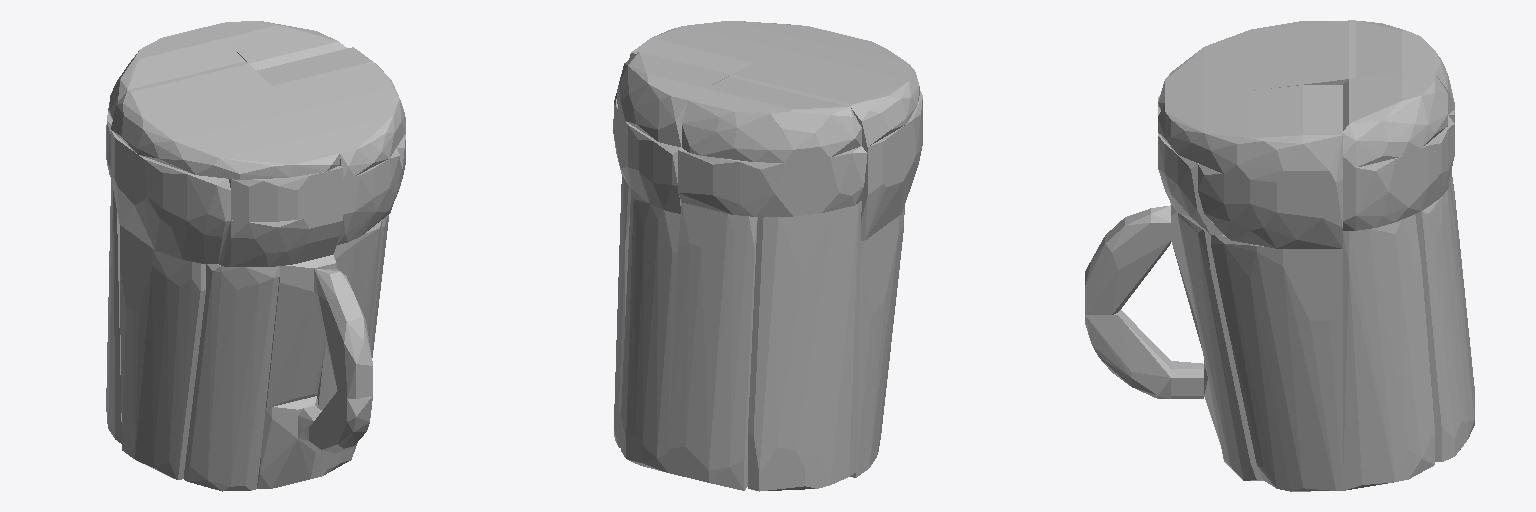
--- What the picture shows (computed from the rendered views, not written in the file) ---
The picture shows the robot from 3 angles, left to right: view 1: azimuth 30°, elevation 25°; view 2: azimuth 150°, elevation 25°; view 3: azimuth 270°, elevation 25°; orthographic projection.
Robot: root — 24 links, 23 joints (23 fixed); root link link_59c2a9f6e97ebde9266e6525b6754758_convex_piece_0; default pose: all joints at 0.
Visible links, largest first — view 1: link_59c2a9f6e97ebde9266e6525b6754758_convex_piece_0, link_59c2a9f6e97ebde9266e6525b6754758_convex_piece_12, link_59c2a9f6e97ebde9266e6525b6754758_convex_piece_13, link_59c2a9f6e97ebde9266e6525b6754758_convex_piece_7, link_59c2a9f6e97ebde9266e6525b6754758_convex_piece_14, link_59c2a9f6e97ebde9266e6525b6754758_convex_piece_19, link_59c2a9f6e97ebde9266e6525b6754758_convex_piece_20, link_59c2a9f6e97ebde9266e6525b6754758_convex_piece_18, link_59c2a9f6e97ebde9266e6525b6754758_convex_piece_21, link_59c2a9f6e97ebde9266e6525b6754758_convex_piece_4, link_59c2a9f6e97ebde9266e6525b6754758_convex_piece_5, link_59c2a9f6e97ebde9266e6525b6754758_convex_piece_11 (+6 smaller); view 2: link_59c2a9f6e97ebde9266e6525b6754758_convex_piece_1, link_59c2a9f6e97ebde9266e6525b6754758_convex_piece_2, link_59c2a9f6e97ebde9266e6525b6754758_convex_piece_8, link_59c2a9f6e97ebde9266e6525b6754758_convex_piece_4, link_59c2a9f6e97ebde9266e6525b6754758_convex_piece_0, link_59c2a9f6e97ebde9266e6525b6754758_convex_piece_3, link_59c2a9f6e97ebde9266e6525b6754758_convex_piece_12, link_59c2a9f6e97ebde9266e6525b6754758_convex_piece_11, link_59c2a9f6e97ebde9266e6525b6754758_convex_piece_7, link_59c2a9f6e97ebde9266e6525b6754758_convex_piece_14, link_59c2a9f6e97ebde9266e6525b6754758_convex_piece_10, link_59c2a9f6e97ebde9266e6525b6754758_convex_piece_9; view 3: link_59c2a9f6e97ebde9266e6525b6754758_convex_piece_6, link_59c2a9f6e97ebde9266e6525b6754758_convex_piece_9, link_59c2a9f6e97ebde9266e6525b6754758_convex_piece_7, link_59c2a9f6e97ebde9266e6525b6754758_convex_piece_0, link_59c2a9f6e97ebde9266e6525b6754758_convex_piece_8, link_59c2a9f6e97ebde9266e6525b6754758_convex_piece_16, link_59c2a9f6e97ebde9266e6525b6754758_convex_piece_11, link_59c2a9f6e97ebde9266e6525b6754758_convex_piece_5, link_59c2a9f6e97ebde9266e6525b6754758_convex_piece_10, link_59c2a9f6e97ebde9266e6525b6754758_convex_piece_18, link_59c2a9f6e97ebde9266e6525b6754758_convex_piece_17, link_59c2a9f6e97ebde9266e6525b6754758_convex_piece_4 (+4 smaller).
Link boxes in pixels (x1,y1,x2,y2): link_59c2a9f6e97ebde9266e6525b6754758_convex_piece_0: (111,61,339,179); link_59c2a9f6e97ebde9266e6525b6754758_convex_piece_12: (120,225,205,479); link_59c2a9f6e97ebde9266e6525b6754758_convex_piece_13: (184,264,279,491); link_59c2a9f6e97ebde9266e6525b6754758_convex_piece_7: (257,47,405,178); link_59c2a9f6e97ebde9266e6525b6754758_convex_piece_14: (111,130,230,263); link_59c2a9f6e97ebde9266e6525b6754758_convex_piece_19: (266,255,336,407); link_59c2a9f6e97ebde9266e6525b6754758_convex_piece_20: (218,209,342,266); link_59c2a9f6e97ebde9266e6525b6754758_convex_piece_18: (314,269,372,398); link_59c2a9f6e97ebde9266e6525b6754758_convex_piece_21: (229,166,342,221); link_59c2a9f6e97ebde9266e6525b6754758_convex_piece_4: (108,27,244,119); link_59c2a9f6e97ebde9266e6525b6754758_convex_piece_5: (311,220,381,478); link_59c2a9f6e97ebde9266e6525b6754758_convex_piece_11: (208,21,346,70); link_59c2a9f6e97ebde9266e6525b6754758_convex_piece_1: (748,201,861,491); link_59c2a9f6e97ebde9266e6525b6754758_convex_piece_2: (668,203,757,490); link_59c2a9f6e97ebde9266e6525b6754758_convex_piece_8: (621,189,680,472); link_59c2a9f6e97ebde9266e6525b6754758_convex_piece_4: (682,77,861,162); link_59c2a9f6e97ebde9266e6525b6754758_convex_piece_0: (729,30,919,146); link_59c2a9f6e97ebde9266e6525b6754758_convex_piece_3: (678,146,867,216); link_59c2a9f6e97ebde9266e6525b6754758_convex_piece_12: (850,206,904,477); link_59c2a9f6e97ebde9266e6525b6754758_convex_piece_11: (617,52,730,147); link_59c2a9f6e97ebde9266e6525b6754758_convex_piece_7: (629,21,824,74); link_59c2a9f6e97ebde9266e6525b6754758_convex_piece_14: (861,91,922,240); link_59c2a9f6e97ebde9266e6525b6754758_convex_piece_10: (613,93,681,213); link_59c2a9f6e97ebde9266e6525b6754758_convex_piece_9: (614,175,630,447); link_59c2a9f6e97ebde9266e6525b6754758_convex_piece_6: (1211,235,1342,491); link_59c2a9f6e97ebde9266e6525b6754758_convex_piece_9: (1343,214,1434,490); link_59c2a9f6e97ebde9266e6525b6754758_convex_piece_7: (1158,85,1342,182); link_59c2a9f6e97ebde9266e6525b6754758_convex_piece_0: (1158,20,1355,109); link_59c2a9f6e97ebde9266e6525b6754758_convex_piece_8: (1416,188,1474,461); link_59c2a9f6e97ebde9266e6525b6754758_convex_piece_16: (1198,163,1342,248); link_59c2a9f6e97ebde9266e6525b6754758_convex_piece_11: (1343,73,1447,167); link_59c2a9f6e97ebde9266e6525b6754758_convex_piece_5: (1178,213,1263,480); link_59c2a9f6e97ebde9266e6525b6754758_convex_piece_10: (1343,115,1454,230); link_59c2a9f6e97ebde9266e6525b6754758_convex_piece_18: (1085,205,1170,314); link_59c2a9f6e97ebde9266e6525b6754758_convex_piece_17: (1085,310,1170,398); link_59c2a9f6e97ebde9266e6525b6754758_convex_piece_4: (1356,21,1454,114).
Size in the robot's own frame: 0.0349 by 0.0458 by 0.0497 metres.
24 mesh visuals loaded from 24 distinct referenced files (24 OBJ).

robot.urdf — root:
<robot name="root">
  <link name="link_59c2a9f6e97ebde9266e6525b6754758_convex_piece_0">
    <inertial>
      <origin rpy="0 0 0" xyz="0 0 0"/>
      <mass value="3.76E-07"/>
      <inertia ixx="1.49E-10" ixy="-2.13E-12" ixz="-5.71E-11" iyy="1.69E-10" iyz="-1.09E-11" izz="3.81E-11"/>
    </inertial>
    <visual>
      <origin rpy="0 0 0" xyz="0 0 0"/>
      <geometry>
        <mesh filename="59c2a9f6e97ebde9266e6525b6754758_convex_piece_0.obj" scale="1.0000E+00"/>
      </geometry>
      <material name="">
        <color rgba="7.50E-01 7.50E-01 7.50E-01 1"/>
      </material>
    </visual>
    <collision>
      <origin rpy="0 0 0" xyz="0 0 0"/>
      <geometry>
        <mesh filename="59c2a9f6e97ebde9266e6525b6754758_convex_piece_0.obj" scale="1.0000E+00"/>
      </geometry>
    </collision>
  </link>
  <link name="link_59c2a9f6e97ebde9266e6525b6754758_convex_piece_1">
    <inertial>
      <origin rpy="0 0 0" xyz="0 0 0"/>
      <mass value="4.27E-07"/>
      <inertia ixx="1.05E-10" ixy="-6.75E-11" ixz="2.67E-11" iyy="7.72E-11" iyz="-4.76E-11" izz="1.43E-10"/>
    </inertial>
    <visual>
      <origin rpy="0 0 0" xyz="0 0 0"/>
      <geometry>
        <mesh filename="59c2a9f6e97ebde9266e6525b6754758_convex_piece_1.obj" scale="1.0000E+00"/>
      </geometry>
      <material name="">
        <color rgba="7.50E-01 7.50E-01 7.50E-01 1"/>
      </material>
    </visual>
    <collision>
      <origin rpy="0 0 0" xyz="0 0 0"/>
      <geometry>
        <mesh filename="59c2a9f6e97ebde9266e6525b6754758_convex_piece_1.obj" scale="1.0000E+00"/>
      </geometry>
    </collision>
  </link>
  <joint name="link_59c2a9f6e97ebde9266e6525b6754758_convex_piece_1_joint" type="fixed">
    <origin rpy="0 0 0" xyz="0 0 0"/>
    <parent link="link_59c2a9f6e97ebde9266e6525b6754758_convex_piece_0"/>
    <child link="link_59c2a9f6e97ebde9266e6525b6754758_convex_piece_1"/>
  </joint>
  <link name="link_59c2a9f6e97ebde9266e6525b6754758_convex_piece_2">
    <inertial>
      <origin rpy="0 0 0" xyz="0 0 0"/>
      <mass value="3.02E-07"/>
      <inertia ixx="1.26E-10" ixy="-1.68E-11" ixz="4.21E-12" iyy="1.41E-11" iyz="-3.97E-11" izz="1.21E-10"/>
    </inertial>
    <visual>
      <origin rpy="0 0 0" xyz="0 0 0"/>
      <geometry>
        <mesh filename="59c2a9f6e97ebde9266e6525b6754758_convex_piece_2.obj" scale="1.0000E+00"/>
      </geometry>
      <material name="">
        <color rgba="7.50E-01 7.50E-01 7.50E-01 1"/>
      </material>
    </visual>
    <collision>
      <origin rpy="0 0 0" xyz="0 0 0"/>
      <geometry>
        <mesh filename="59c2a9f6e97ebde9266e6525b6754758_convex_piece_2.obj" scale="1.0000E+00"/>
      </geometry>
    </collision>
  </link>
  <joint name="link_59c2a9f6e97ebde9266e6525b6754758_convex_piece_2_joint" type="fixed">
    <origin rpy="0 0 0" xyz="0 0 0"/>
    <parent link="link_59c2a9f6e97ebde9266e6525b6754758_convex_piece_1"/>
    <child link="link_59c2a9f6e97ebde9266e6525b6754758_convex_piece_2"/>
  </joint>
  <link name="link_59c2a9f6e97ebde9266e6525b6754758_convex_piece_3">
    <inertial>
      <origin rpy="0 0 0" xyz="0 0 0"/>
      <mass value="2.36E-07"/>
      <inertia ixx="9.69E-11" ixy="-2.34E-11" ixz="-2.75E-11" iyy="6.05E-11" iyz="5.07E-11" izz="7.15E-11"/>
    </inertial>
    <visual>
      <origin rpy="0 0 0" xyz="0 0 0"/>
      <geometry>
        <mesh filename="59c2a9f6e97ebde9266e6525b6754758_convex_piece_3.obj" scale="1.0000E+00"/>
      </geometry>
      <material name="">
        <color rgba="7.50E-01 7.50E-01 7.50E-01 1"/>
      </material>
    </visual>
    <collision>
      <origin rpy="0 0 0" xyz="0 0 0"/>
      <geometry>
        <mesh filename="59c2a9f6e97ebde9266e6525b6754758_convex_piece_3.obj" scale="1.0000E+00"/>
      </geometry>
    </collision>
  </link>
  <joint name="link_59c2a9f6e97ebde9266e6525b6754758_convex_piece_3_joint" type="fixed">
    <origin rpy="0 0 0" xyz="0 0 0"/>
    <parent link="link_59c2a9f6e97ebde9266e6525b6754758_convex_piece_2"/>
    <child link="link_59c2a9f6e97ebde9266e6525b6754758_convex_piece_3"/>
  </joint>
  <link name="link_59c2a9f6e97ebde9266e6525b6754758_convex_piece_4">
    <inertial>
      <origin rpy="0 0 0" xyz="0 0 0"/>
      <mass value="2.33E-07"/>
      <inertia ixx="1.39E-10" ixy="-1.66E-11" ixz="-2.77E-11" iyy="1.06E-10" iyz="6.45E-11" izz="5.64E-11"/>
    </inertial>
    <visual>
      <origin rpy="0 0 0" xyz="0 0 0"/>
      <geometry>
        <mesh filename="59c2a9f6e97ebde9266e6525b6754758_convex_piece_4.obj" scale="1.0000E+00"/>
      </geometry>
      <material name="">
        <color rgba="7.50E-01 7.50E-01 7.50E-01 1"/>
      </material>
    </visual>
    <collision>
      <origin rpy="0 0 0" xyz="0 0 0"/>
      <geometry>
        <mesh filename="59c2a9f6e97ebde9266e6525b6754758_convex_piece_4.obj" scale="1.0000E+00"/>
      </geometry>
    </collision>
  </link>
  <joint name="link_59c2a9f6e97ebde9266e6525b6754758_convex_piece_4_joint" type="fixed">
    <origin rpy="0 0 0" xyz="0 0 0"/>
    <parent link="link_59c2a9f6e97ebde9266e6525b6754758_convex_piece_3"/>
    <child link="link_59c2a9f6e97ebde9266e6525b6754758_convex_piece_4"/>
  </joint>
  <link name="link_59c2a9f6e97ebde9266e6525b6754758_convex_piece_5">
    <inertial>
      <origin rpy="0 0 0" xyz="0 0 0"/>
      <mass value="3.38E-07"/>
      <inertia ixx="3.64E-11" ixy="-1.32E-11" ixz="-1.75E-11" iyy="4.02E-11" iyz="2.38E-12" izz="2.83E-11"/>
    </inertial>
    <visual>
      <origin rpy="0 0 0" xyz="0 0 0"/>
      <geometry>
        <mesh filename="59c2a9f6e97ebde9266e6525b6754758_convex_piece_5.obj" scale="1.0000E+00"/>
      </geometry>
      <material name="">
        <color rgba="7.50E-01 7.50E-01 7.50E-01 1"/>
      </material>
    </visual>
    <collision>
      <origin rpy="0 0 0" xyz="0 0 0"/>
      <geometry>
        <mesh filename="59c2a9f6e97ebde9266e6525b6754758_convex_piece_5.obj" scale="1.0000E+00"/>
      </geometry>
    </collision>
  </link>
  <joint name="link_59c2a9f6e97ebde9266e6525b6754758_convex_piece_5_joint" type="fixed">
    <origin rpy="0 0 0" xyz="0 0 0"/>
    <parent link="link_59c2a9f6e97ebde9266e6525b6754758_convex_piece_4"/>
    <child link="link_59c2a9f6e97ebde9266e6525b6754758_convex_piece_5"/>
  </joint>
  <link name="link_59c2a9f6e97ebde9266e6525b6754758_convex_piece_6">
    <inertial>
      <origin rpy="0 0 0" xyz="0 0 0"/>
      <mass value="3.88E-07"/>
      <inertia ixx="1.38E-11" ixy="6.46E-12" ixz="-2.85E-11" iyy="8.12E-11" iyz="-1.66E-11" izz="6.94E-11"/>
    </inertial>
    <visual>
      <origin rpy="0 0 0" xyz="0 0 0"/>
      <geometry>
        <mesh filename="59c2a9f6e97ebde9266e6525b6754758_convex_piece_6.obj" scale="1.0000E+00"/>
      </geometry>
      <material name="">
        <color rgba="7.50E-01 7.50E-01 7.50E-01 1"/>
      </material>
    </visual>
    <collision>
      <origin rpy="0 0 0" xyz="0 0 0"/>
      <geometry>
        <mesh filename="59c2a9f6e97ebde9266e6525b6754758_convex_piece_6.obj" scale="1.0000E+00"/>
      </geometry>
    </collision>
  </link>
  <joint name="link_59c2a9f6e97ebde9266e6525b6754758_convex_piece_6_joint" type="fixed">
    <origin rpy="0 0 0" xyz="0 0 0"/>
    <parent link="link_59c2a9f6e97ebde9266e6525b6754758_convex_piece_5"/>
    <child link="link_59c2a9f6e97ebde9266e6525b6754758_convex_piece_6"/>
  </joint>
  <link name="link_59c2a9f6e97ebde9266e6525b6754758_convex_piece_7">
    <inertial>
      <origin rpy="0 0 0" xyz="0 0 0"/>
      <mass value="3.69E-07"/>
      <inertia ixx="1.32E-10" ixy="-2.65E-12" ixz="6.94E-11" iyy="1.62E-10" iyz="-2.15E-11" izz="4.58E-11"/>
    </inertial>
    <visual>
      <origin rpy="0 0 0" xyz="0 0 0"/>
      <geometry>
        <mesh filename="59c2a9f6e97ebde9266e6525b6754758_convex_piece_7.obj" scale="1.0000E+00"/>
      </geometry>
      <material name="">
        <color rgba="7.50E-01 7.50E-01 7.50E-01 1"/>
      </material>
    </visual>
    <collision>
      <origin rpy="0 0 0" xyz="0 0 0"/>
      <geometry>
        <mesh filename="59c2a9f6e97ebde9266e6525b6754758_convex_piece_7.obj" scale="1.0000E+00"/>
      </geometry>
    </collision>
  </link>
  <joint name="link_59c2a9f6e97ebde9266e6525b6754758_convex_piece_7_joint" type="fixed">
    <origin rpy="0 0 0" xyz="0 0 0"/>
    <parent link="link_59c2a9f6e97ebde9266e6525b6754758_convex_piece_6"/>
    <child link="link_59c2a9f6e97ebde9266e6525b6754758_convex_piece_7"/>
  </joint>
  <link name="link_59c2a9f6e97ebde9266e6525b6754758_convex_piece_8">
    <inertial>
      <origin rpy="0 0 0" xyz="0 0 0"/>
      <mass value="3.10E-07"/>
      <inertia ixx="1.16E-10" ixy="3.66E-11" ixz="-1.16E-11" iyy="2.57E-11" iyz="-4.42E-11" izz="1.20E-10"/>
    </inertial>
    <visual>
      <origin rpy="0 0 0" xyz="0 0 0"/>
      <geometry>
        <mesh filename="59c2a9f6e97ebde9266e6525b6754758_convex_piece_8.obj" scale="1.0000E+00"/>
      </geometry>
      <material name="">
        <color rgba="7.50E-01 7.50E-01 7.50E-01 1"/>
      </material>
    </visual>
    <collision>
      <origin rpy="0 0 0" xyz="0 0 0"/>
      <geometry>
        <mesh filename="59c2a9f6e97ebde9266e6525b6754758_convex_piece_8.obj" scale="1.0000E+00"/>
      </geometry>
    </collision>
  </link>
  <joint name="link_59c2a9f6e97ebde9266e6525b6754758_convex_piece_8_joint" type="fixed">
    <origin rpy="0 0 0" xyz="0 0 0"/>
    <parent link="link_59c2a9f6e97ebde9266e6525b6754758_convex_piece_7"/>
    <child link="link_59c2a9f6e97ebde9266e6525b6754758_convex_piece_8"/>
  </joint>
  <link name="link_59c2a9f6e97ebde9266e6525b6754758_convex_piece_9">
    <inertial>
      <origin rpy="0 0 0" xyz="0 0 0"/>
      <mass value="2.86E-07"/>
      <inertia ixx="5.58E-11" ixy="4.44E-11" ixz="-2.38E-11" iyy="6.36E-11" iyz="-3.16E-11" izz="8.99E-11"/>
    </inertial>
    <visual>
      <origin rpy="0 0 0" xyz="0 0 0"/>
      <geometry>
        <mesh filename="59c2a9f6e97ebde9266e6525b6754758_convex_piece_9.obj" scale="1.0000E+00"/>
      </geometry>
      <material name="">
        <color rgba="7.50E-01 7.50E-01 7.50E-01 1"/>
      </material>
    </visual>
    <collision>
      <origin rpy="0 0 0" xyz="0 0 0"/>
      <geometry>
        <mesh filename="59c2a9f6e97ebde9266e6525b6754758_convex_piece_9.obj" scale="1.0000E+00"/>
      </geometry>
    </collision>
  </link>
  <joint name="link_59c2a9f6e97ebde9266e6525b6754758_convex_piece_9_joint" type="fixed">
    <origin rpy="0 0 0" xyz="0 0 0"/>
    <parent link="link_59c2a9f6e97ebde9266e6525b6754758_convex_piece_8"/>
    <child link="link_59c2a9f6e97ebde9266e6525b6754758_convex_piece_9"/>
  </joint>
  <link name="link_59c2a9f6e97ebde9266e6525b6754758_convex_piece_10">
    <inertial>
      <origin rpy="0 0 0" xyz="0 0 0"/>
      <mass value="2.40E-07"/>
      <inertia ixx="8.58E-11" ixy="2.95E-11" ixz="3.51E-11" iyy="6.39E-11" iyz="4.45E-11" izz="7.22E-11"/>
    </inertial>
    <visual>
      <origin rpy="0 0 0" xyz="0 0 0"/>
      <geometry>
        <mesh filename="59c2a9f6e97ebde9266e6525b6754758_convex_piece_10.obj" scale="1.0000E+00"/>
      </geometry>
      <material name="">
        <color rgba="7.50E-01 7.50E-01 7.50E-01 1"/>
      </material>
    </visual>
    <collision>
      <origin rpy="0 0 0" xyz="0 0 0"/>
      <geometry>
        <mesh filename="59c2a9f6e97ebde9266e6525b6754758_convex_piece_10.obj" scale="1.0000E+00"/>
      </geometry>
    </collision>
  </link>
  <joint name="link_59c2a9f6e97ebde9266e6525b6754758_convex_piece_10_joint" type="fixed">
    <origin rpy="0 0 0" xyz="0 0 0"/>
    <parent link="link_59c2a9f6e97ebde9266e6525b6754758_convex_piece_9"/>
    <child link="link_59c2a9f6e97ebde9266e6525b6754758_convex_piece_10"/>
  </joint>
  <link name="link_59c2a9f6e97ebde9266e6525b6754758_convex_piece_11">
    <inertial>
      <origin rpy="0 0 0" xyz="0 0 0"/>
      <mass value="1.95E-07"/>
      <inertia ixx="1.10E-10" ixy="1.87E-11" ixz="3.35E-11" iyy="9.31E-11" iyz="4.89E-11" izz="4.65E-11"/>
    </inertial>
    <visual>
      <origin rpy="0 0 0" xyz="0 0 0"/>
      <geometry>
        <mesh filename="59c2a9f6e97ebde9266e6525b6754758_convex_piece_11.obj" scale="1.0000E+00"/>
      </geometry>
      <material name="">
        <color rgba="7.50E-01 7.50E-01 7.50E-01 1"/>
      </material>
    </visual>
    <collision>
      <origin rpy="0 0 0" xyz="0 0 0"/>
      <geometry>
        <mesh filename="59c2a9f6e97ebde9266e6525b6754758_convex_piece_11.obj" scale="1.0000E+00"/>
      </geometry>
    </collision>
  </link>
  <joint name="link_59c2a9f6e97ebde9266e6525b6754758_convex_piece_11_joint" type="fixed">
    <origin rpy="0 0 0" xyz="0 0 0"/>
    <parent link="link_59c2a9f6e97ebde9266e6525b6754758_convex_piece_10"/>
    <child link="link_59c2a9f6e97ebde9266e6525b6754758_convex_piece_11"/>
  </joint>
  <link name="link_59c2a9f6e97ebde9266e6525b6754758_convex_piece_12">
    <inertial>
      <origin rpy="0 0 0" xyz="0 0 0"/>
      <mass value="3.07E-07"/>
      <inertia ixx="1.34E-11" ixy="-1.28E-11" ixz="2.69E-11" iyy="6.95E-11" iyz="-1.67E-11" izz="6.19E-11"/>
    </inertial>
    <visual>
      <origin rpy="0 0 0" xyz="0 0 0"/>
      <geometry>
        <mesh filename="59c2a9f6e97ebde9266e6525b6754758_convex_piece_12.obj" scale="1.0000E+00"/>
      </geometry>
      <material name="">
        <color rgba="7.50E-01 7.50E-01 7.50E-01 1"/>
      </material>
    </visual>
    <collision>
      <origin rpy="0 0 0" xyz="0 0 0"/>
      <geometry>
        <mesh filename="59c2a9f6e97ebde9266e6525b6754758_convex_piece_12.obj" scale="1.0000E+00"/>
      </geometry>
    </collision>
  </link>
  <joint name="link_59c2a9f6e97ebde9266e6525b6754758_convex_piece_12_joint" type="fixed">
    <origin rpy="0 0 0" xyz="0 0 0"/>
    <parent link="link_59c2a9f6e97ebde9266e6525b6754758_convex_piece_11"/>
    <child link="link_59c2a9f6e97ebde9266e6525b6754758_convex_piece_12"/>
  </joint>
  <link name="link_59c2a9f6e97ebde9266e6525b6754758_convex_piece_13">
    <inertial>
      <origin rpy="0 0 0" xyz="0 0 0"/>
      <mass value="2.96E-07"/>
      <inertia ixx="2.88E-11" ixy="1.18E-11" ixz="2.30E-11" iyy="4.66E-11" iyz="-3.69E-14" izz="2.94E-11"/>
    </inertial>
    <visual>
      <origin rpy="0 0 0" xyz="0 0 0"/>
      <geometry>
        <mesh filename="59c2a9f6e97ebde9266e6525b6754758_convex_piece_13.obj" scale="1.0000E+00"/>
      </geometry>
      <material name="">
        <color rgba="7.50E-01 7.50E-01 7.50E-01 1"/>
      </material>
    </visual>
    <collision>
      <origin rpy="0 0 0" xyz="0 0 0"/>
      <geometry>
        <mesh filename="59c2a9f6e97ebde9266e6525b6754758_convex_piece_13.obj" scale="1.0000E+00"/>
      </geometry>
    </collision>
  </link>
  <joint name="link_59c2a9f6e97ebde9266e6525b6754758_convex_piece_13_joint" type="fixed">
    <origin rpy="0 0 0" xyz="0 0 0"/>
    <parent link="link_59c2a9f6e97ebde9266e6525b6754758_convex_piece_12"/>
    <child link="link_59c2a9f6e97ebde9266e6525b6754758_convex_piece_13"/>
  </joint>
  <link name="link_59c2a9f6e97ebde9266e6525b6754758_convex_piece_14">
    <inertial>
      <origin rpy="0 0 0" xyz="0 0 0"/>
      <mass value="3.24E-07"/>
      <inertia ixx="4.32E-11" ixy="-3.02E-12" ixz="-6.27E-11" iyy="1.04E-10" iyz="-7.47E-12" izz="6.88E-11"/>
    </inertial>
    <visual>
      <origin rpy="0 0 0" xyz="0 0 0"/>
      <geometry>
        <mesh filename="59c2a9f6e97ebde9266e6525b6754758_convex_piece_14.obj" scale="1.0000E+00"/>
      </geometry>
      <material name="">
        <color rgba="7.50E-01 7.50E-01 7.50E-01 1"/>
      </material>
    </visual>
    <collision>
      <origin rpy="0 0 0" xyz="0 0 0"/>
      <geometry>
        <mesh filename="59c2a9f6e97ebde9266e6525b6754758_convex_piece_14.obj" scale="1.0000E+00"/>
      </geometry>
    </collision>
  </link>
  <joint name="link_59c2a9f6e97ebde9266e6525b6754758_convex_piece_14_joint" type="fixed">
    <origin rpy="0 0 0" xyz="0 0 0"/>
    <parent link="link_59c2a9f6e97ebde9266e6525b6754758_convex_piece_13"/>
    <child link="link_59c2a9f6e97ebde9266e6525b6754758_convex_piece_14"/>
  </joint>
  <link name="link_59c2a9f6e97ebde9266e6525b6754758_convex_piece_15">
    <inertial>
      <origin rpy="0 0 0" xyz="0 0 0"/>
      <mass value="1.75E-07"/>
      <inertia ixx="3.41E-11" ixy="-1.14E-11" ixz="1.74E-11" iyy="3.00E-11" iyz="-2.76E-11" izz="2.57E-11"/>
    </inertial>
    <visual>
      <origin rpy="0 0 0" xyz="0 0 0"/>
      <geometry>
        <mesh filename="59c2a9f6e97ebde9266e6525b6754758_convex_piece_15.obj" scale="1.0000E+00"/>
      </geometry>
      <material name="">
        <color rgba="7.50E-01 7.50E-01 7.50E-01 1"/>
      </material>
    </visual>
    <collision>
      <origin rpy="0 0 0" xyz="0 0 0"/>
      <geometry>
        <mesh filename="59c2a9f6e97ebde9266e6525b6754758_convex_piece_15.obj" scale="1.0000E+00"/>
      </geometry>
    </collision>
  </link>
  <joint name="link_59c2a9f6e97ebde9266e6525b6754758_convex_piece_15_joint" type="fixed">
    <origin rpy="0 0 0" xyz="0 0 0"/>
    <parent link="link_59c2a9f6e97ebde9266e6525b6754758_convex_piece_14"/>
    <child link="link_59c2a9f6e97ebde9266e6525b6754758_convex_piece_15"/>
  </joint>
  <link name="link_59c2a9f6e97ebde9266e6525b6754758_convex_piece_16">
    <inertial>
      <origin rpy="0 0 0" xyz="0 0 0"/>
      <mass value="1.74E-07"/>
      <inertia ixx="2.08E-11" ixy="-2.40E-14" ixz="3.48E-11" iyy="5.71E-11" iyz="-5.60E-12" izz="3.88E-11"/>
    </inertial>
    <visual>
      <origin rpy="0 0 0" xyz="0 0 0"/>
      <geometry>
        <mesh filename="59c2a9f6e97ebde9266e6525b6754758_convex_piece_16.obj" scale="1.0000E+00"/>
      </geometry>
      <material name="">
        <color rgba="7.50E-01 7.50E-01 7.50E-01 1"/>
      </material>
    </visual>
    <collision>
      <origin rpy="0 0 0" xyz="0 0 0"/>
      <geometry>
        <mesh filename="59c2a9f6e97ebde9266e6525b6754758_convex_piece_16.obj" scale="1.0000E+00"/>
      </geometry>
    </collision>
  </link>
  <joint name="link_59c2a9f6e97ebde9266e6525b6754758_convex_piece_16_joint" type="fixed">
    <origin rpy="0 0 0" xyz="0 0 0"/>
    <parent link="link_59c2a9f6e97ebde9266e6525b6754758_convex_piece_15"/>
    <child link="link_59c2a9f6e97ebde9266e6525b6754758_convex_piece_16"/>
  </joint>
  <link name="link_59c2a9f6e97ebde9266e6525b6754758_convex_piece_17">
    <inertial>
      <origin rpy="0 0 0" xyz="0 0 0"/>
      <mass value="6.73E-08"/>
      <inertia ixx="2.61E-11" ixy="1.31E-13" ixz="6.32E-14" iyy="5.49E-12" iyz="1.24E-11" izz="2.08E-11"/>
    </inertial>
    <visual>
      <origin rpy="0 0 0" xyz="0 0 0"/>
      <geometry>
        <mesh filename="59c2a9f6e97ebde9266e6525b6754758_convex_piece_17.obj" scale="1.0000E+00"/>
      </geometry>
      <material name="">
        <color rgba="7.50E-01 7.50E-01 7.50E-01 1"/>
      </material>
    </visual>
    <collision>
      <origin rpy="0 0 0" xyz="0 0 0"/>
      <geometry>
        <mesh filename="59c2a9f6e97ebde9266e6525b6754758_convex_piece_17.obj" scale="1.0000E+00"/>
      </geometry>
    </collision>
  </link>
  <joint name="link_59c2a9f6e97ebde9266e6525b6754758_convex_piece_17_joint" type="fixed">
    <origin rpy="0 0 0" xyz="0 0 0"/>
    <parent link="link_59c2a9f6e97ebde9266e6525b6754758_convex_piece_16"/>
    <child link="link_59c2a9f6e97ebde9266e6525b6754758_convex_piece_17"/>
  </joint>
  <link name="link_59c2a9f6e97ebde9266e6525b6754758_convex_piece_18">
    <inertial>
      <origin rpy="0 0 0" xyz="0 0 0"/>
      <mass value="8.57E-08"/>
      <inertia ixx="2.17E-11" ixy="3.15E-14" ixz="3.84E-14" iyy="-5.85E-12" iyz="-1.62E-12" izz="2.78E-11"/>
    </inertial>
    <visual>
      <origin rpy="0 0 0" xyz="0 0 0"/>
      <geometry>
        <mesh filename="59c2a9f6e97ebde9266e6525b6754758_convex_piece_18.obj" scale="1.0000E+00"/>
      </geometry>
      <material name="">
        <color rgba="7.50E-01 7.50E-01 7.50E-01 1"/>
      </material>
    </visual>
    <collision>
      <origin rpy="0 0 0" xyz="0 0 0"/>
      <geometry>
        <mesh filename="59c2a9f6e97ebde9266e6525b6754758_convex_piece_18.obj" scale="1.0000E+00"/>
      </geometry>
    </collision>
  </link>
  <joint name="link_59c2a9f6e97ebde9266e6525b6754758_convex_piece_18_joint" type="fixed">
    <origin rpy="0 0 0" xyz="0 0 0"/>
    <parent link="link_59c2a9f6e97ebde9266e6525b6754758_convex_piece_17"/>
    <child link="link_59c2a9f6e97ebde9266e6525b6754758_convex_piece_18"/>
  </joint>
  <link name="link_59c2a9f6e97ebde9266e6525b6754758_convex_piece_19">
    <inertial>
      <origin rpy="0 0 0" xyz="0 0 0"/>
      <mass value="1.42E-07"/>
      <inertia ixx="5.29E-12" ixy="1.84E-12" ixz="6.44E-13" iyy="-4.98E-12" iyz="-1.34E-12" izz="1.20E-11"/>
    </inertial>
    <visual>
      <origin rpy="0 0 0" xyz="0 0 0"/>
      <geometry>
        <mesh filename="59c2a9f6e97ebde9266e6525b6754758_convex_piece_19.obj" scale="1.0000E+00"/>
      </geometry>
      <material name="">
        <color rgba="7.50E-01 7.50E-01 7.50E-01 1"/>
      </material>
    </visual>
    <collision>
      <origin rpy="0 0 0" xyz="0 0 0"/>
      <geometry>
        <mesh filename="59c2a9f6e97ebde9266e6525b6754758_convex_piece_19.obj" scale="1.0000E+00"/>
      </geometry>
    </collision>
  </link>
  <joint name="link_59c2a9f6e97ebde9266e6525b6754758_convex_piece_19_joint" type="fixed">
    <origin rpy="0 0 0" xyz="0 0 0"/>
    <parent link="link_59c2a9f6e97ebde9266e6525b6754758_convex_piece_18"/>
    <child link="link_59c2a9f6e97ebde9266e6525b6754758_convex_piece_19"/>
  </joint>
  <link name="link_59c2a9f6e97ebde9266e6525b6754758_convex_piece_20">
    <inertial>
      <origin rpy="0 0 0" xyz="0 0 0"/>
      <mass value="1.37E-07"/>
      <inertia ixx="1.84E-11" ixy="6.47E-12" ixz="-7.38E-12" iyy="1.04E-11" iyz="-1.91E-11" izz="1.86E-11"/>
    </inertial>
    <visual>
      <origin rpy="0 0 0" xyz="0 0 0"/>
      <geometry>
        <mesh filename="59c2a9f6e97ebde9266e6525b6754758_convex_piece_20.obj" scale="1.0000E+00"/>
      </geometry>
      <material name="">
        <color rgba="7.50E-01 7.50E-01 7.50E-01 1"/>
      </material>
    </visual>
    <collision>
      <origin rpy="0 0 0" xyz="0 0 0"/>
      <geometry>
        <mesh filename="59c2a9f6e97ebde9266e6525b6754758_convex_piece_20.obj" scale="1.0000E+00"/>
      </geometry>
    </collision>
  </link>
  <joint name="link_59c2a9f6e97ebde9266e6525b6754758_convex_piece_20_joint" type="fixed">
    <origin rpy="0 0 0" xyz="0 0 0"/>
    <parent link="link_59c2a9f6e97ebde9266e6525b6754758_convex_piece_19"/>
    <child link="link_59c2a9f6e97ebde9266e6525b6754758_convex_piece_20"/>
  </joint>
  <link name="link_59c2a9f6e97ebde9266e6525b6754758_convex_piece_21">
    <inertial>
      <origin rpy="0 0 0" xyz="0 0 0"/>
      <mass value="1.53E-07"/>
      <inertia ixx="4.65E-11" ixy="6.92E-12" ixz="-1.29E-11" iyy="3.78E-11" iyz="-3.02E-11" izz="2.04E-11"/>
    </inertial>
    <visual>
      <origin rpy="0 0 0" xyz="0 0 0"/>
      <geometry>
        <mesh filename="59c2a9f6e97ebde9266e6525b6754758_convex_piece_21.obj" scale="1.0000E+00"/>
      </geometry>
      <material name="">
        <color rgba="7.50E-01 7.50E-01 7.50E-01 1"/>
      </material>
    </visual>
    <collision>
      <origin rpy="0 0 0" xyz="0 0 0"/>
      <geometry>
        <mesh filename="59c2a9f6e97ebde9266e6525b6754758_convex_piece_21.obj" scale="1.0000E+00"/>
      </geometry>
    </collision>
  </link>
  <joint name="link_59c2a9f6e97ebde9266e6525b6754758_convex_piece_21_joint" type="fixed">
    <origin rpy="0 0 0" xyz="0 0 0"/>
    <parent link="link_59c2a9f6e97ebde9266e6525b6754758_convex_piece_20"/>
    <child link="link_59c2a9f6e97ebde9266e6525b6754758_convex_piece_21"/>
  </joint>
  <link name="link_59c2a9f6e97ebde9266e6525b6754758_convex_piece_22">
    <inertial>
      <origin rpy="0 0 0" xyz="0 0 0"/>
      <mass value="1.54E-08"/>
      <inertia ixx="4.38E-12" ixy="-3.35E-14" ixz="-5.02E-14" iyy="2.71E-12" iyz="2.23E-12" izz="1.70E-12"/>
    </inertial>
    <visual>
      <origin rpy="0 0 0" xyz="0 0 0"/>
      <geometry>
        <mesh filename="59c2a9f6e97ebde9266e6525b6754758_convex_piece_22.obj" scale="1.0000E+00"/>
      </geometry>
      <material name="">
        <color rgba="7.50E-01 7.50E-01 7.50E-01 1"/>
      </material>
    </visual>
    <collision>
      <origin rpy="0 0 0" xyz="0 0 0"/>
      <geometry>
        <mesh filename="59c2a9f6e97ebde9266e6525b6754758_convex_piece_22.obj" scale="1.0000E+00"/>
      </geometry>
    </collision>
  </link>
  <joint name="link_59c2a9f6e97ebde9266e6525b6754758_convex_piece_22_joint" type="fixed">
    <origin rpy="0 0 0" xyz="0 0 0"/>
    <parent link="link_59c2a9f6e97ebde9266e6525b6754758_convex_piece_21"/>
    <child link="link_59c2a9f6e97ebde9266e6525b6754758_convex_piece_22"/>
  </joint>
  <link name="link_59c2a9f6e97ebde9266e6525b6754758_convex_piece_23">
    <inertial>
      <origin rpy="0 0 0" xyz="0 0 0"/>
      <mass value="7.49E-08"/>
      <inertia ixx="2.37E-11" ixy="6.83E-13" ixz="2.10E-12" iyy="2.17E-11" iyz="6.87E-12" izz="2.91E-12"/>
    </inertial>
    <visual>
      <origin rpy="0 0 0" xyz="0 0 0"/>
      <geometry>
        <mesh filename="59c2a9f6e97ebde9266e6525b6754758_convex_piece_23.obj" scale="1.0000E+00"/>
      </geometry>
      <material name="">
        <color rgba="7.50E-01 7.50E-01 7.50E-01 1"/>
      </material>
    </visual>
    <collision>
      <origin rpy="0 0 0" xyz="0 0 0"/>
      <geometry>
        <mesh filename="59c2a9f6e97ebde9266e6525b6754758_convex_piece_23.obj" scale="1.0000E+00"/>
      </geometry>
    </collision>
  </link>
  <joint name="link_59c2a9f6e97ebde9266e6525b6754758_convex_piece_23_joint" type="fixed">
    <origin rpy="0 0 0" xyz="0 0 0"/>
    <parent link="link_59c2a9f6e97ebde9266e6525b6754758_convex_piece_22"/>
    <child link="link_59c2a9f6e97ebde9266e6525b6754758_convex_piece_23"/>
  </joint>
</robot>
